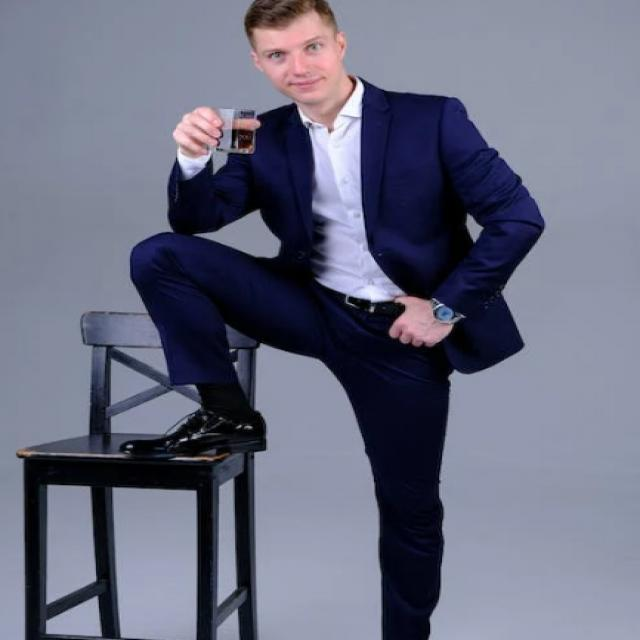Watch: (422, 292, 468, 332)
